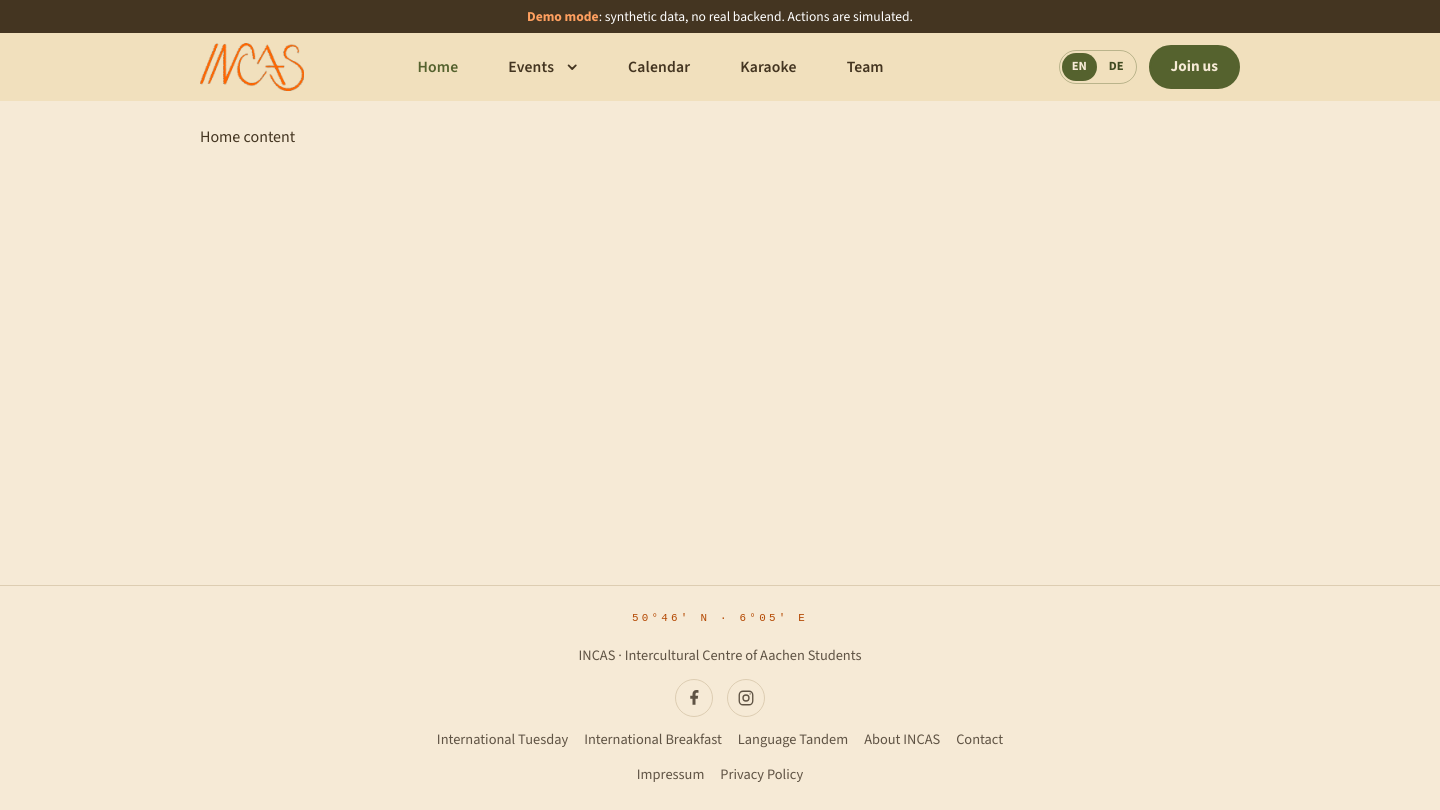
Test: PublicLayout Events navigation › keeps overview navigation separate from submenu disclosure
This screenshot has width=1440, height=810.
Click the button named "Open submenu: Events".
click(575, 67)  # box [560,49,590,85]
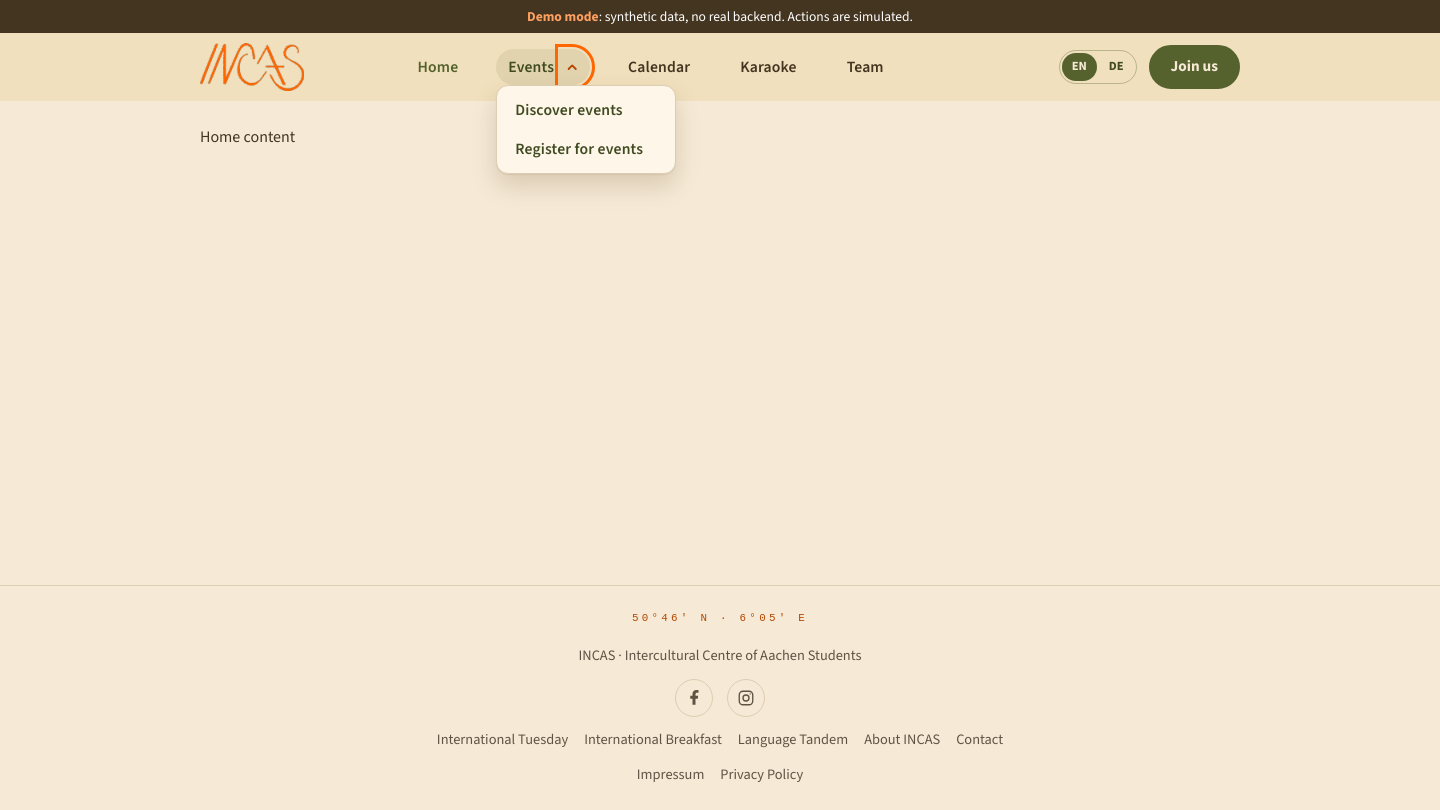
Result: the button named "Open submenu: Events" is expanded at [560,49,590,85]
Result: the link "Discover events" is shown at [515,99,623,121]
Result: the link "Register for events" is shown at [515,138,643,160]
Click the link "Events".
click(531, 67)  # box [508,56,554,78]
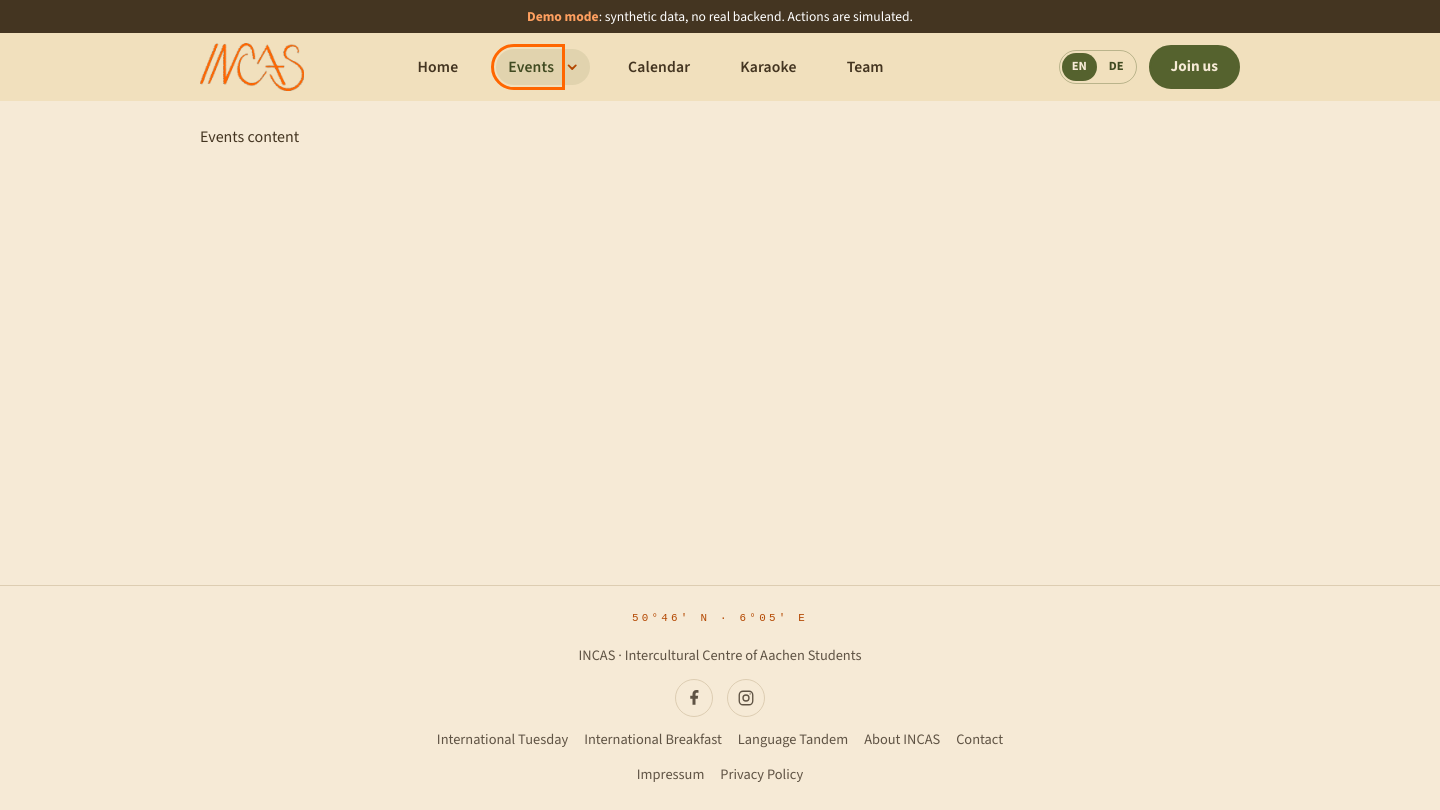
Result: the text "Events content" is shown at [200,126,299,148]
Result: the button named "Open submenu: Events" is collapsed at [560,49,590,85]
